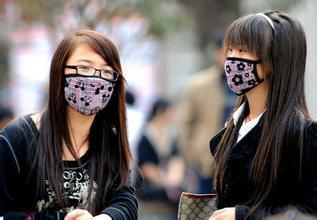OK: (64, 58, 117, 111), (226, 46, 270, 95)
